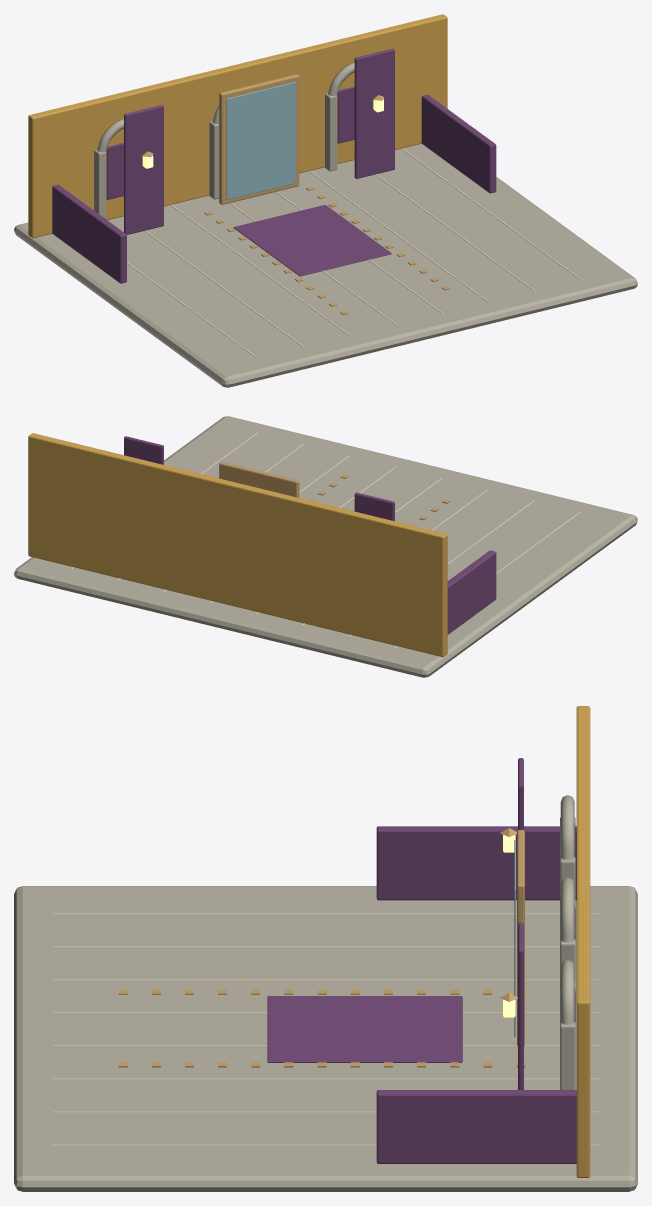
File: emp_mirror-ZuNy6BDU.glb
3 renders of one model, top to bottom at view 1: azimuth 30°, elevation 25°; view 2: azimuth 150°, elevation 25°; view 3: azimuth 270°, elevation 25°, orthographic. The views are drawn at different scales.
Visible parts, largest first — view 1: world_stone.035, world_Story secondary.010, world_Story primary.010, world_sky.035, world_brass.035, world_Story accent.010; view 2: world_Story secondary.010, world_stone.035, world_Story primary.010, world_brass.035, world_Story accent.010; view 3: world_stone.035, world_Story primary.010, world_Story accent.010, world_Story secondary.010, world_brass.035.
Part boxes in pixels (box(x1,y1,x2,y2)): world_stone.035: box(14, 62, 637, 387); world_Story secondary.010: box(28, 14, 447, 238); world_Story primary.010: box(52, 48, 496, 283); world_sky.035: box(226, 82, 295, 199); world_brass.035: box(204, 74, 450, 315); world_Story accent.010: box(127, 148, 581, 358); world_Story secondary.010: box(28, 433, 447, 657); world_stone.035: box(14, 416, 637, 677); world_Story primary.010: box(124, 436, 496, 634); world_brass.035: box(219, 462, 450, 526); world_Story accent.010: box(70, 432, 581, 648); world_stone.035: box(14, 795, 637, 1191); world_Story primary.010: box(267, 758, 576, 1163); world_Story accent.010: box(53, 913, 598, 1145); world_Story secondary.010: box(576, 706, 590, 1177); world_brass.035: box(118, 830, 525, 1067).
Bounding box in the file's own units: 18 × 5.46 × 16.
